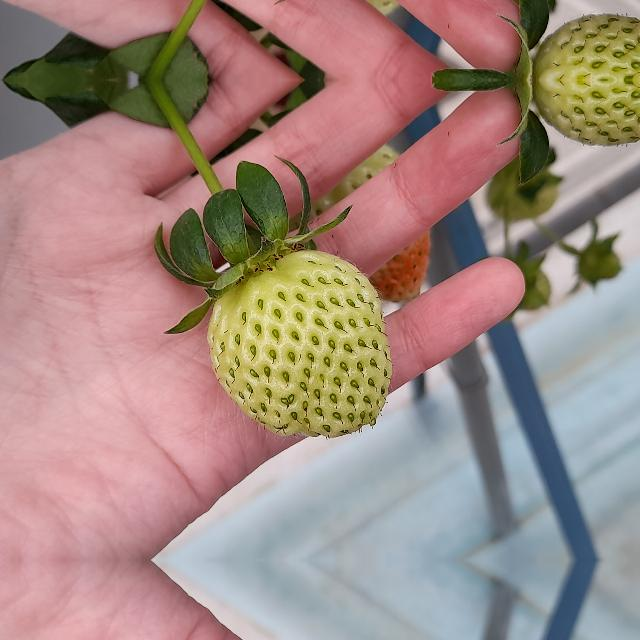Health_25: (206, 248, 392, 438)
